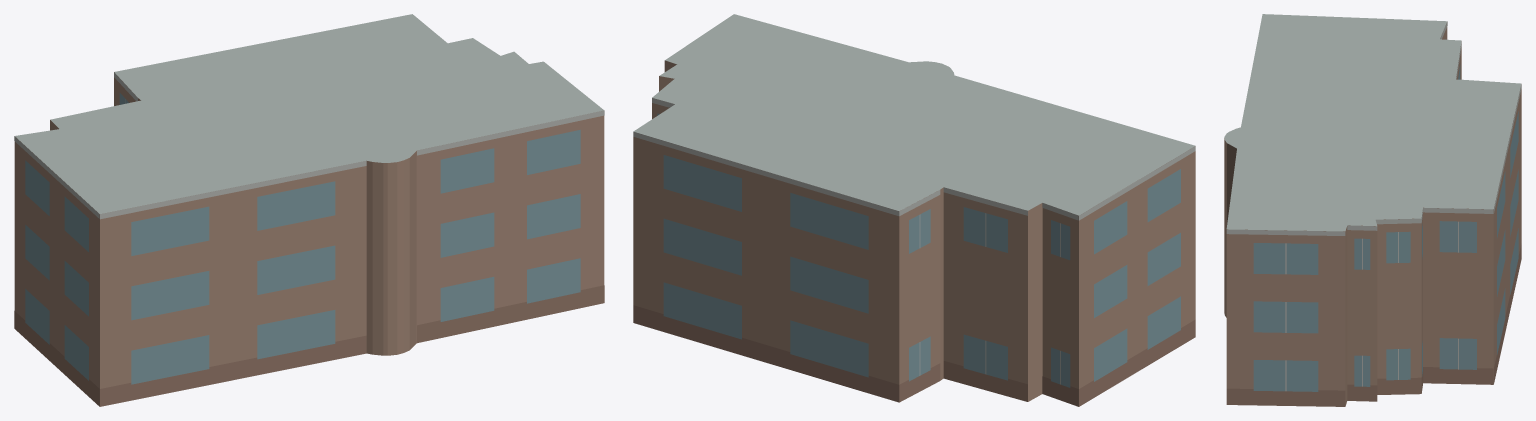
The model's file is survey-upis-32676491.glb.
The picture shows the model from 3 angles, left to right: view 1: azimuth 30°, elevation 25°; view 2: azimuth 150°, elevation 25°; view 3: azimuth 270°, elevation 25°; orthographic projection. The views are drawn at different scales.
Parts seen in each view (by area): view 1: survey-upis-32676491.tmp; view 2: survey-upis-32676491.tmp; view 3: survey-upis-32676491.tmp.
Boxes of the visible parts, left/top/right/bottom form: survey-upis-32676491.tmp: left=14, top=14, right=604, bottom=406; survey-upis-32676491.tmp: left=633, top=14, right=1195, bottom=406; survey-upis-32676491.tmp: left=1224, top=14, right=1521, bottom=406.
Bounding box in the file's own units: 24.33 × 9.15 × 14.05.
